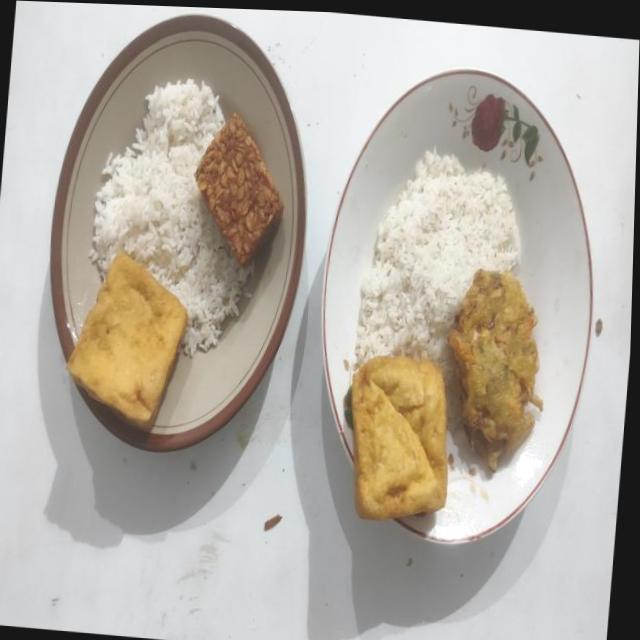nasi_putih: (88, 79, 254, 357), (354, 148, 520, 388)
tahu_goreng: (67, 252, 188, 426), (348, 356, 448, 520)
tempe_goreng: (195, 114, 284, 268)
